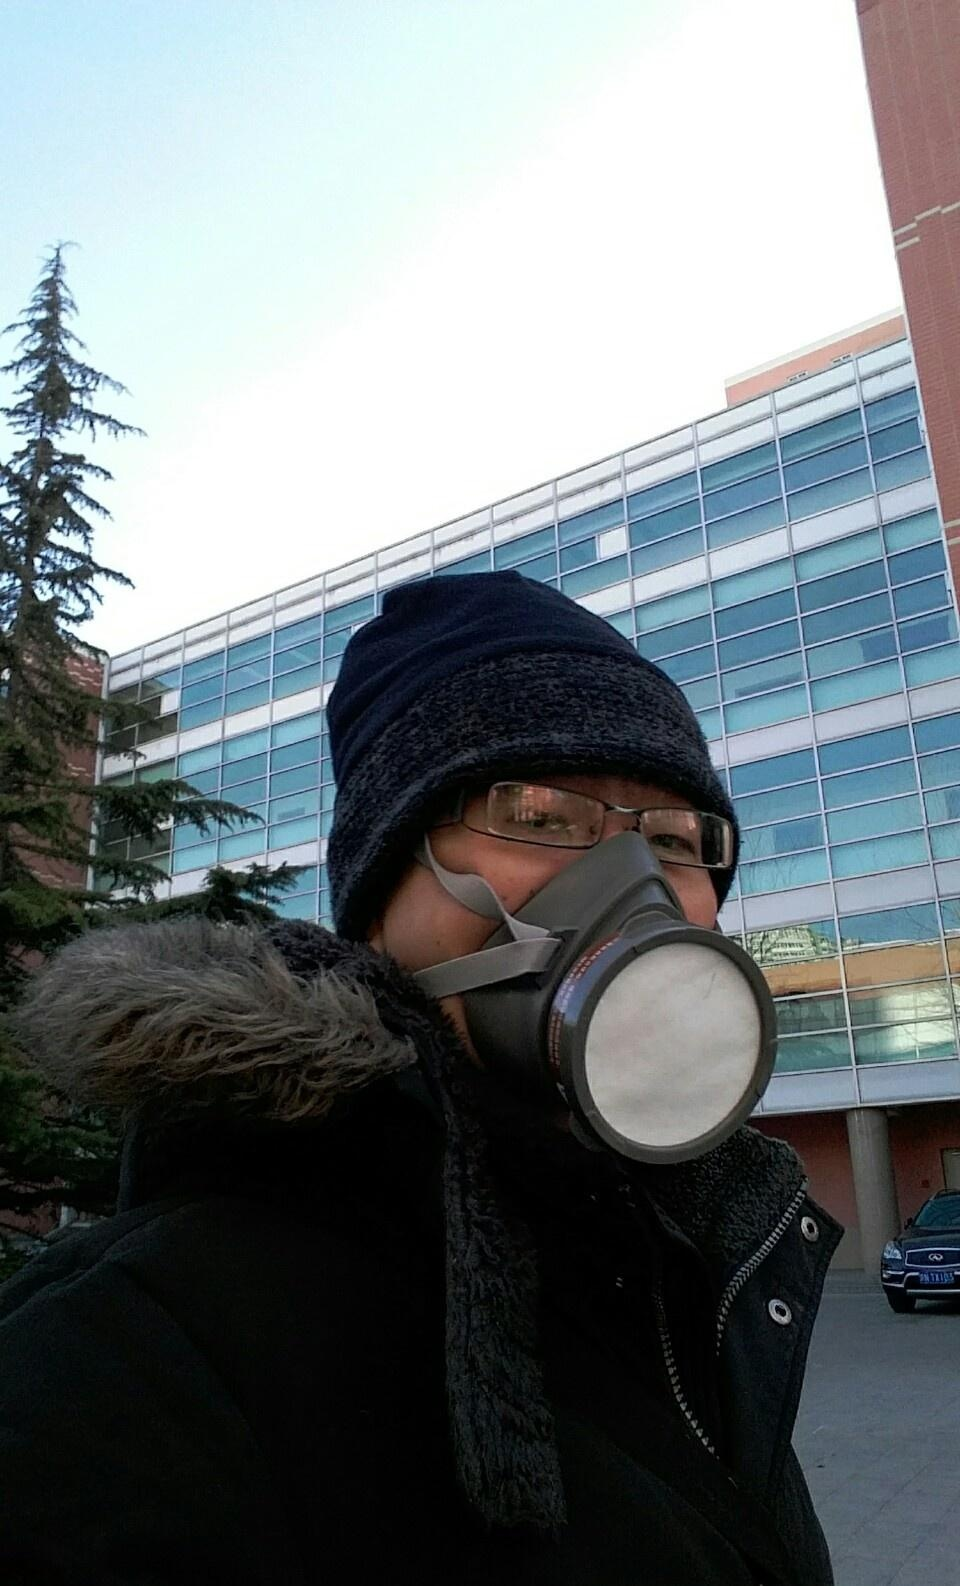Mask: (410, 732, 744, 1065)
